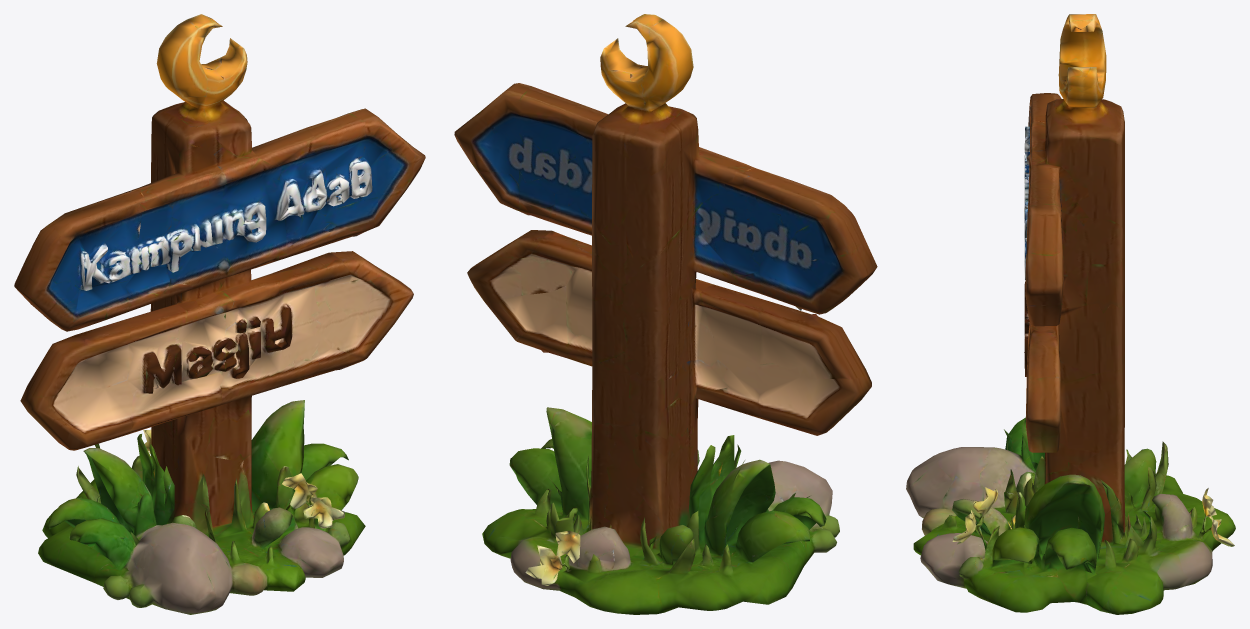
The model's file is adab-mosque-sign.glb.
3 views of the same model, side by side, from view 1: azimuth 30°, elevation 25°; view 2: azimuth 150°, elevation 25°; view 3: azimuth 270°, elevation 25° (orthographic). The views are drawn at different scales.
Bounding box in the file's own units: 1.52 × 1.9 × 1.06.
Materials: 1 (1 with a texture image).
